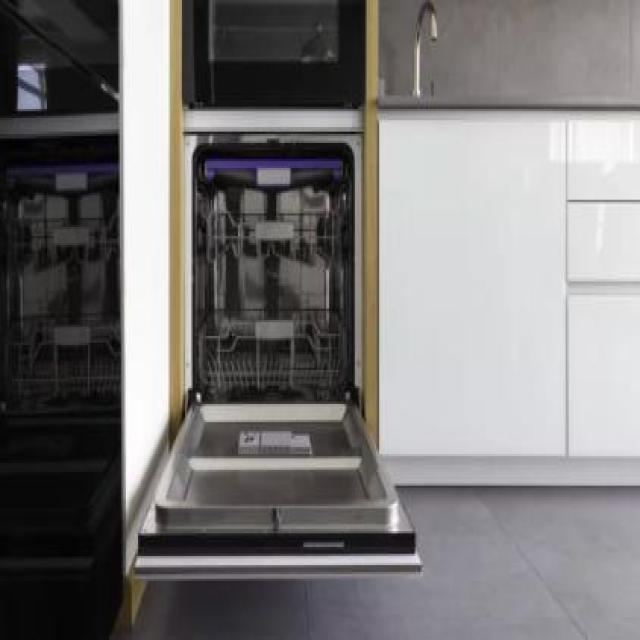dishwasher: (130, 123, 402, 581)
